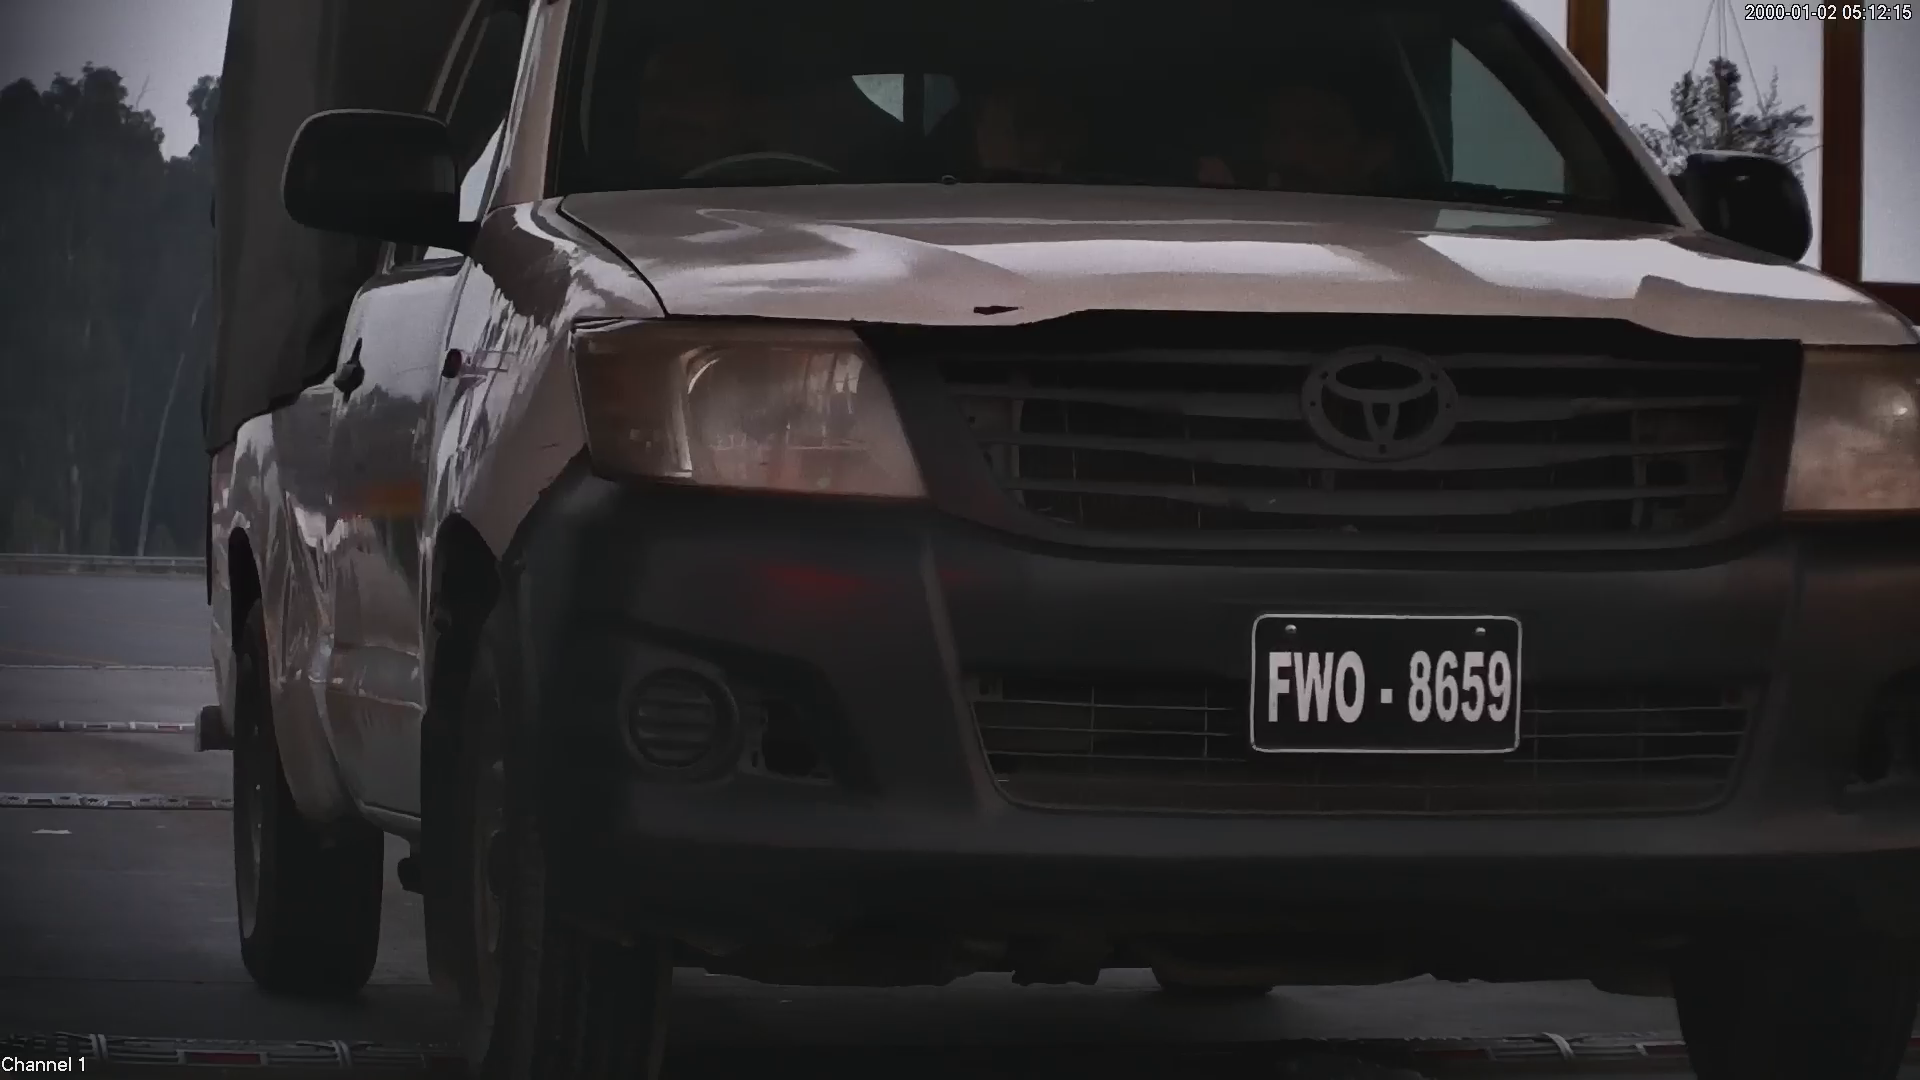Number_Plate: (1240, 595, 1536, 772)
